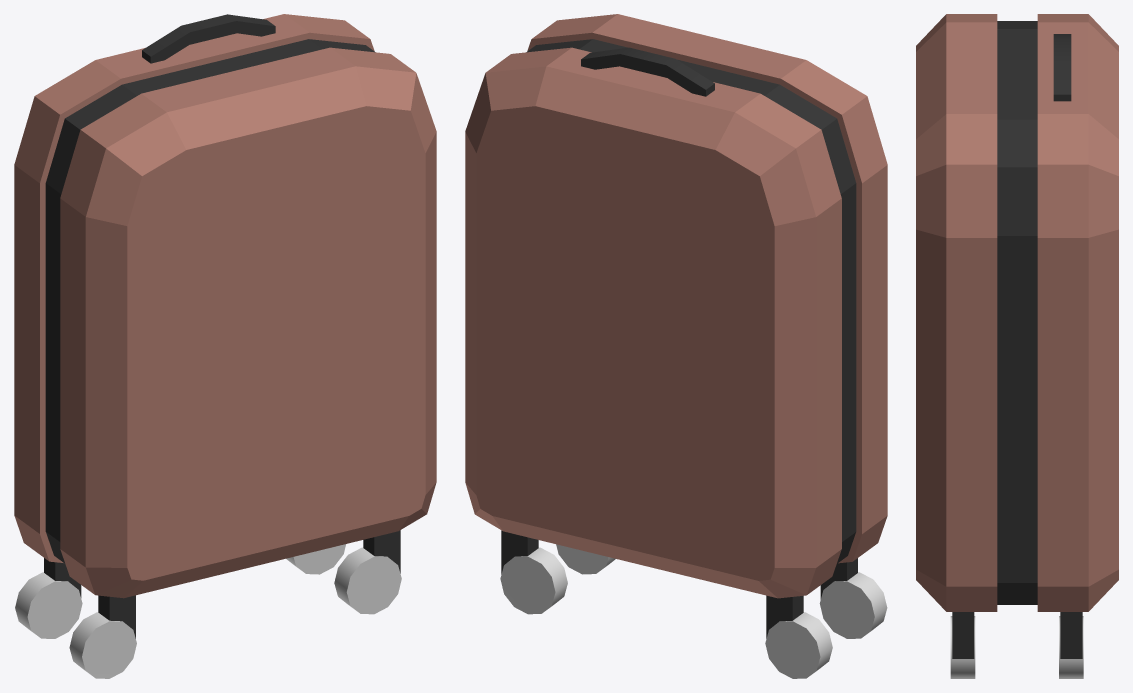
Rendered from Petite_Valise_Marron.fbx.
The picture shows the model from 3 angles, left to right: view 1: azimuth 30°, elevation 25°; view 2: azimuth 150°, elevation 25°; view 3: azimuth 270°, elevation 25°; orthographic projection.
Parts seen in each view (by area): view 1: Petite_Valise_Marron; view 2: Petite_Valise_Marron; view 3: Petite_Valise_Marron.
Boxes of the visible parts, bbox=[...] form: Petite_Valise_Marron: bbox=[14, 14, 436, 678]; Petite_Valise_Marron: bbox=[465, 14, 887, 678]; Petite_Valise_Marron: bbox=[916, 14, 1118, 678].
Bounding box in the file's own units: 45.95 × 71.8 × 23.01.
Materials: 1 (1 with a texture image).
